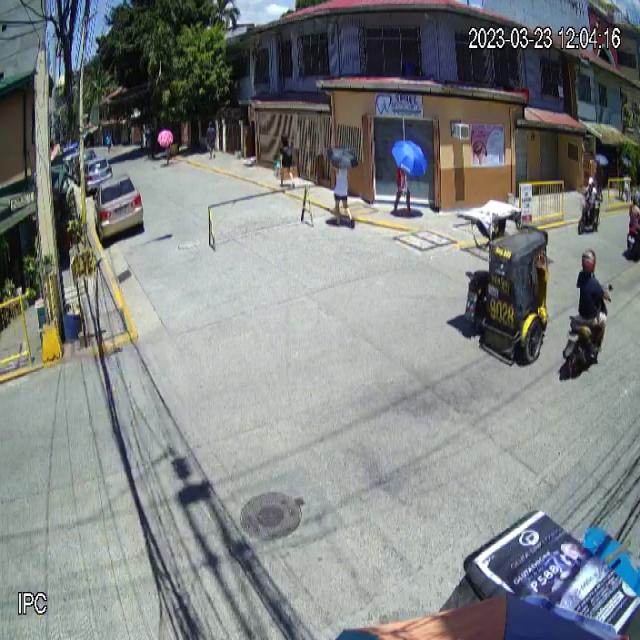Motorcycle: (562, 282, 614, 379)
Tricycle: (456, 199, 551, 365)
